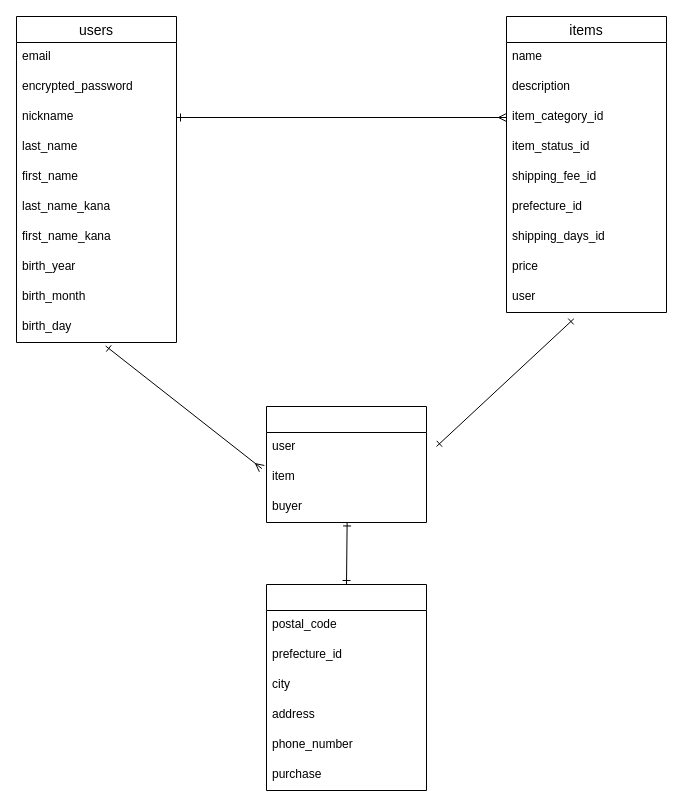
Image size: 683x807. Some labels were removed from this diagram. Each missing label, with the box of its shape:
buyers: (266, 584, 426, 790)
purchases: (266, 406, 426, 522)
